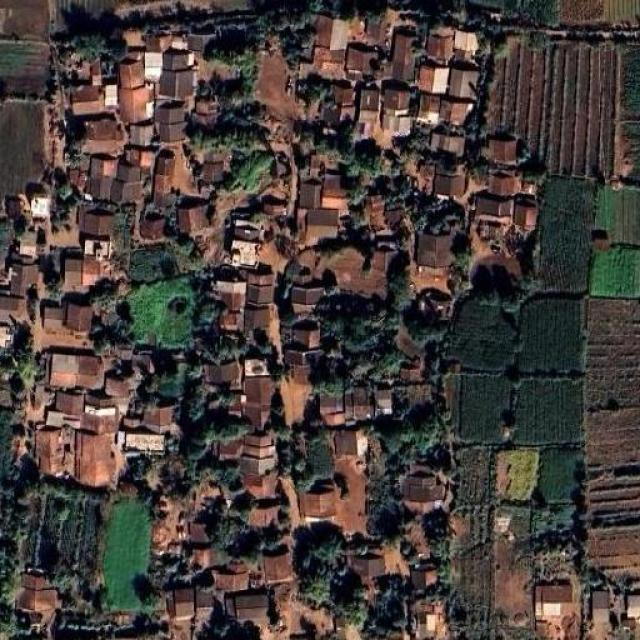land-Sx1C: (489, 35, 615, 176), (451, 445, 495, 638), (24, 480, 108, 578), (538, 176, 595, 293), (589, 463, 640, 581), (585, 300, 640, 409), (104, 499, 151, 611), (448, 295, 514, 371), (519, 296, 584, 373), (492, 505, 532, 627), (0, 101, 45, 202), (514, 378, 581, 444), (452, 374, 512, 443), (614, 45, 640, 184), (586, 408, 640, 466), (0, 39, 49, 93), (595, 189, 640, 246), (592, 246, 639, 298), (538, 448, 581, 504), (558, 0, 640, 25), (0, 0, 49, 41), (456, 448, 491, 503), (504, 450, 539, 499), (621, 46, 640, 119), (16, 0, 46, 7)
